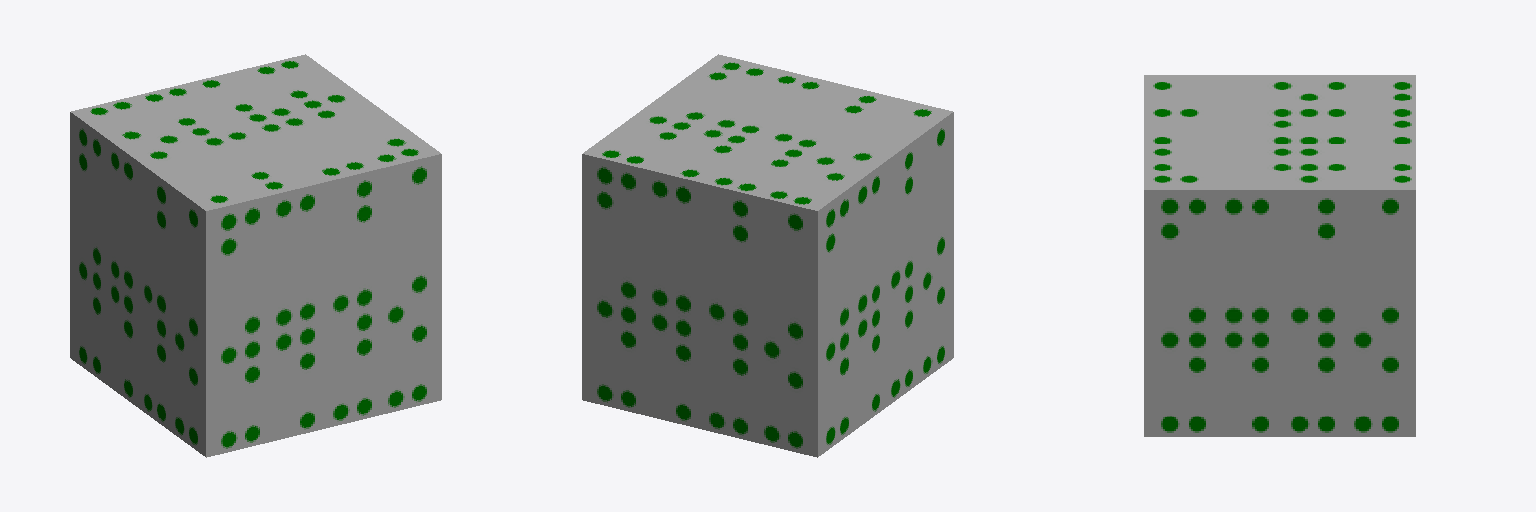
The picture shows the model from 3 angles: view 1: azimuth 30°, elevation 25°; view 2: azimuth 150°, elevation 25°; view 3: azimuth 270°, elevation 25°; orthographic projection.
Parts seen in each view (by area): view 1: Cube; view 2: Cube; view 3: Cube.
Boxes of the visible parts, <box> form: Cube: <box>70,54,441,457</box>; Cube: <box>582,54,953,457</box>; Cube: <box>1144,75,1415,436</box>.
Bounding box in the file's own units: 1 × 1 × 1.
1 materials, 1 textured.